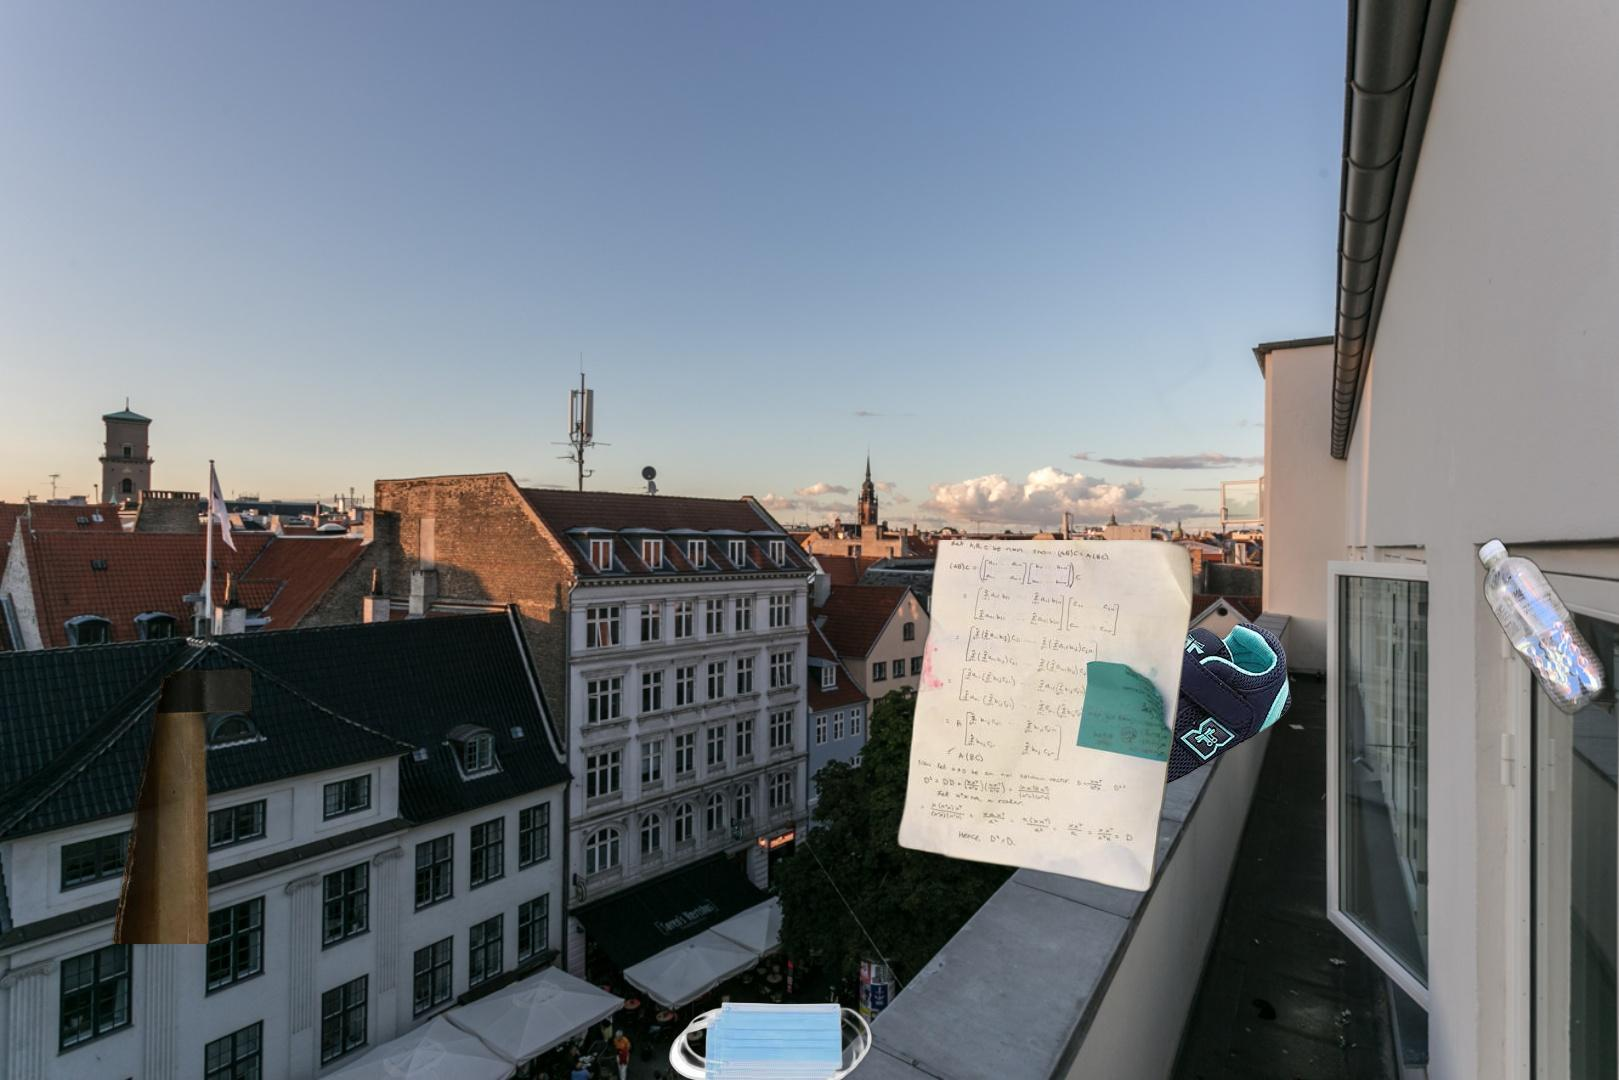paper: (893, 540, 1198, 895)
plastic-bottles: (1298, 533, 1619, 734), (90, 954, 602, 1080)
shoes: (1039, 621, 1294, 795)
trash: (666, 999, 875, 1080)
trashbox-cardboard: (109, 648, 426, 944)
